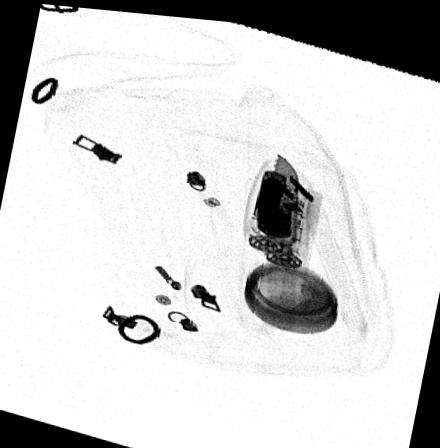Knife: (250, 169, 291, 232)
